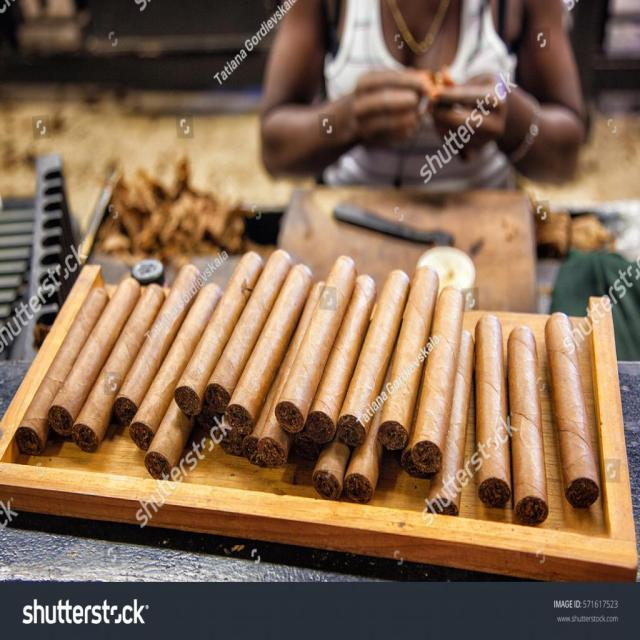smoking: (11, 213, 581, 533), (538, 311, 603, 510)
